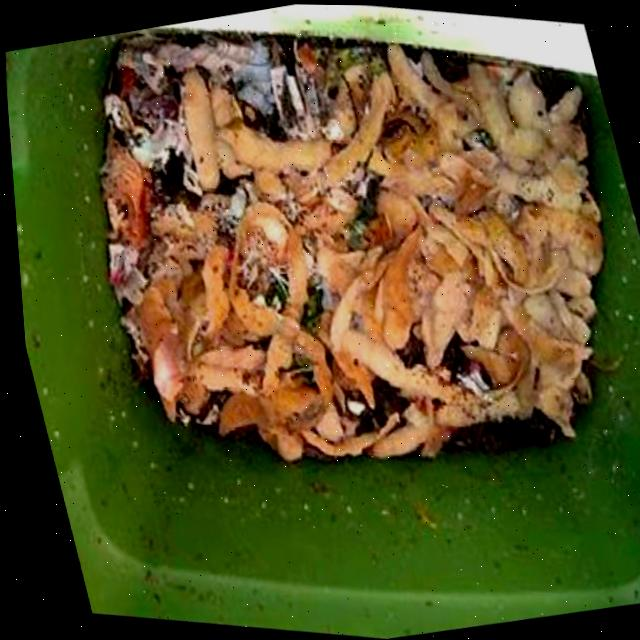Garbage: (101, 35, 601, 463)
Plastic: (234, 40, 275, 116)
